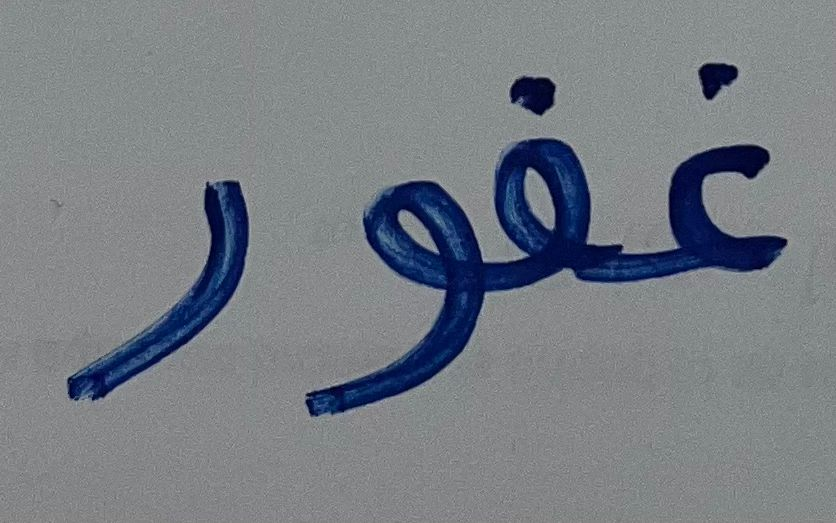ain: (614, 39, 796, 308)
qaf: (488, 51, 610, 306)
reh: (58, 159, 264, 412)
waw: (301, 147, 484, 425)
